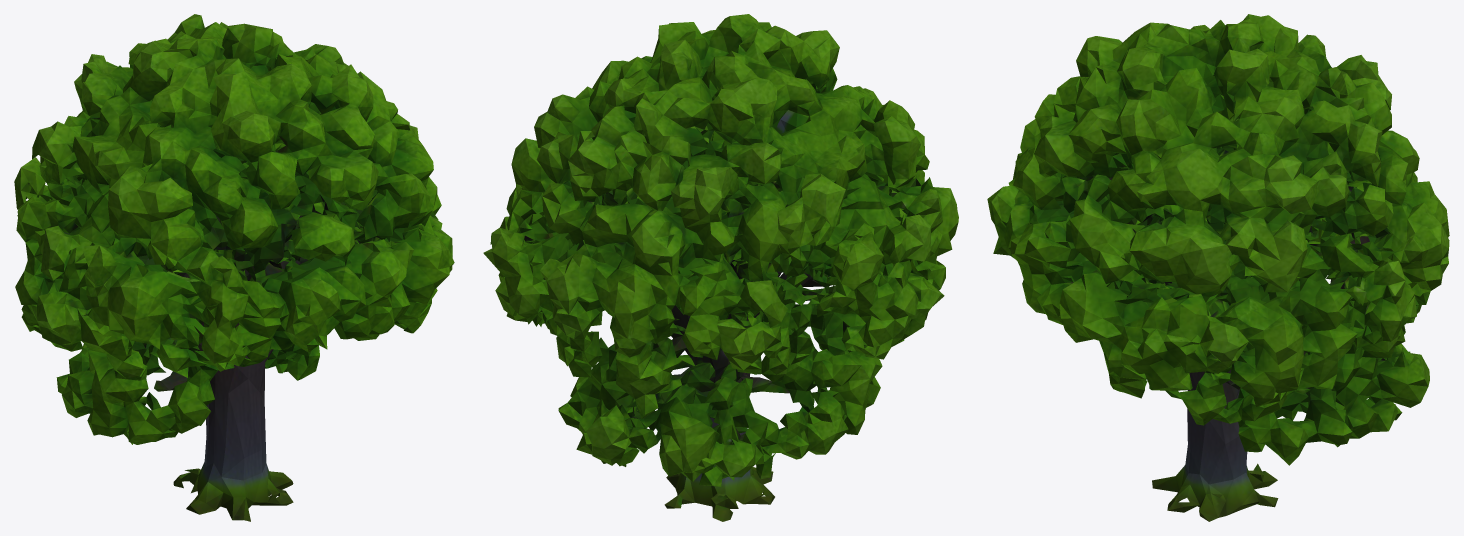
Rendered from oak.glb.
The picture shows the model from 3 angles, left to right: view 1: azimuth 30°, elevation 25°; view 2: azimuth 150°, elevation 25°; view 3: azimuth 270°, elevation 25°; orthographic projection.
Visible parts, largest first — view 1: textured_mesh.obj; view 2: textured_mesh.obj; view 3: textured_mesh.obj.
Boxes of the visible parts, x1=… form: textured_mesh.obj: x1=14, y1=14, x2=454, y2=521; textured_mesh.obj: x1=483, y1=14, x2=958, y2=521; textured_mesh.obj: x1=987, y1=14, x2=1449, y2=521.
Size of the model in its own units: 1.88 by 1.99 by 1.8.
Materials: 1 (1 with a texture image).
